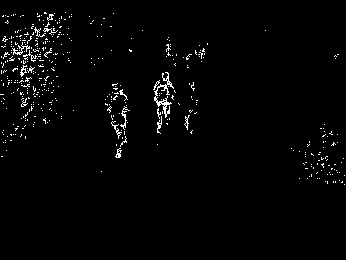person: (102, 82, 130, 158), (152, 69, 176, 133)
